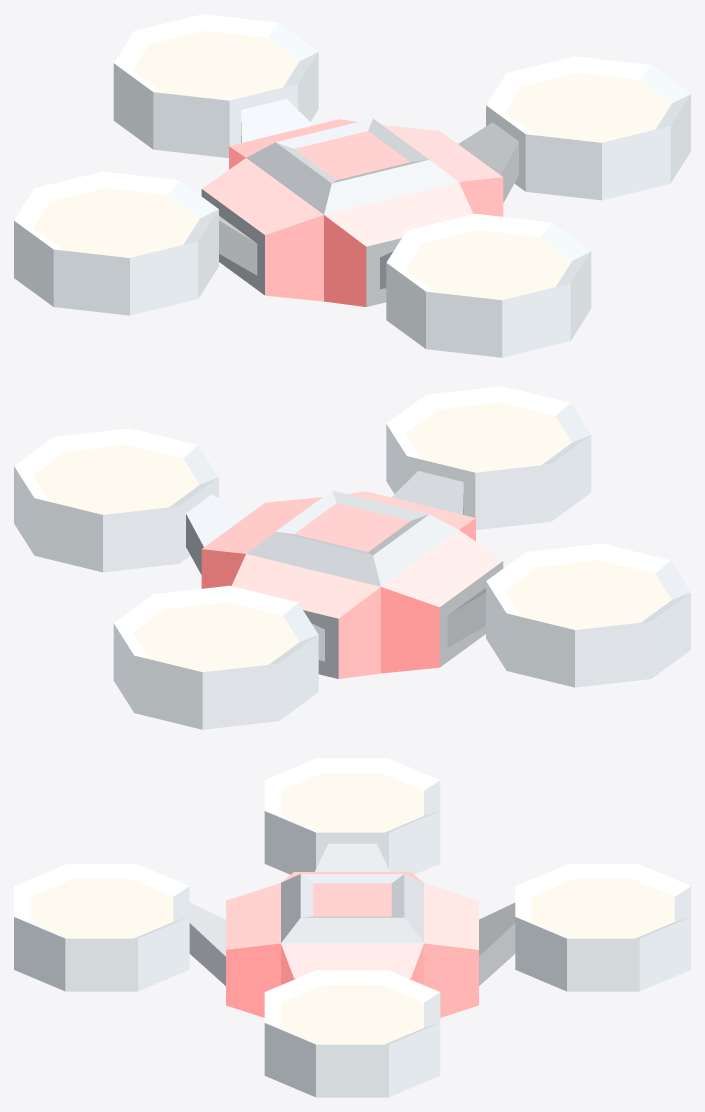
Rendered from Drone.fbx.
3 renders of one model, top to bottom at view 1: azimuth 30°, elevation 25°; view 2: azimuth 150°, elevation 25°; view 3: azimuth 270°, elevation 25°, orthographic. The views are drawn at different scales.
Visible parts, largest first — view 1: Drone; view 2: Drone; view 3: Drone.
Boxes of the visible parts, x1,y1,x2,y2 form: Drone: [14, 14, 690, 357]; Drone: [14, 386, 690, 729]; Drone: [14, 758, 690, 1097].
Size of the model in its own units: 159 by 25.19 by 159.
